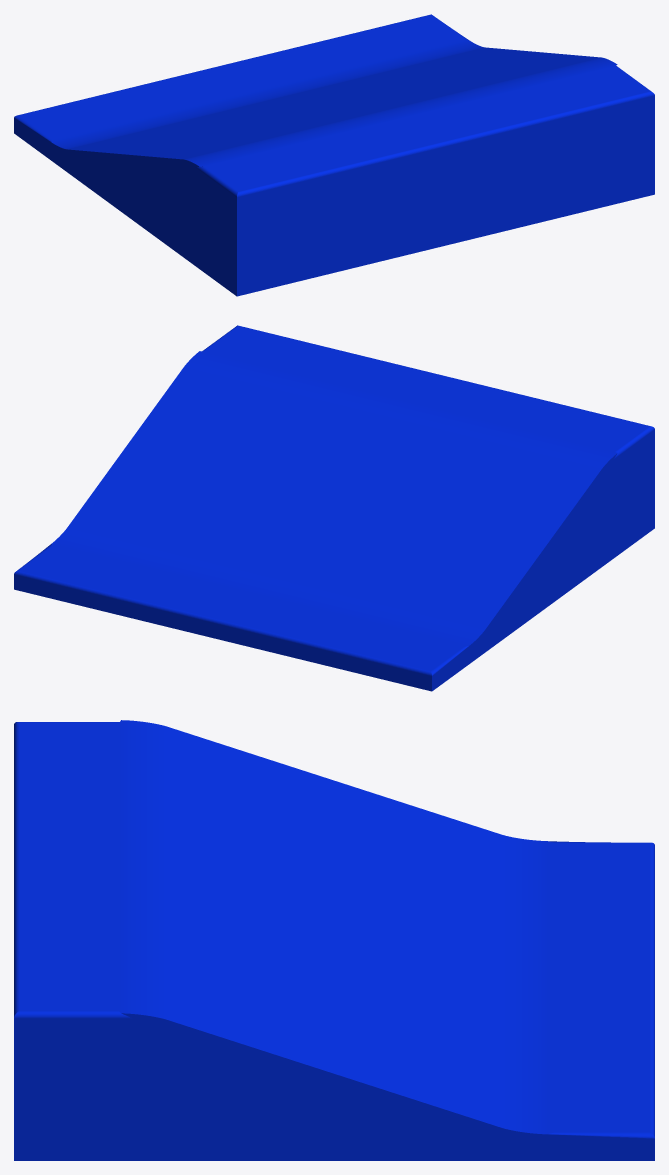
Rendered from ramp.glb.
3 renders of one model, top to bottom at view 1: azimuth 30°, elevation 25°; view 2: azimuth 150°, elevation 25°; view 3: azimuth 270°, elevation 25°, orthographic. The views are drawn at different scales.
Visible parts, largest first — view 1: Cube; view 2: Cube; view 3: Cube.
Part boxes in pixels (x1,y1,x2,y2): Cube: (14, 14, 654, 296); Cube: (14, 325, 654, 691); Cube: (14, 720, 654, 1160).
Bounding box in the file's own units: 8.53 × 2 × 7.88.
